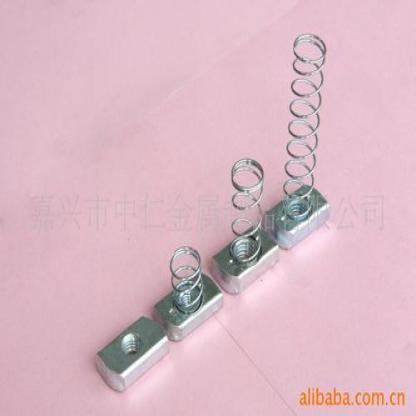FOD: (281, 31, 328, 224), (228, 156, 266, 266), (169, 244, 205, 316)
